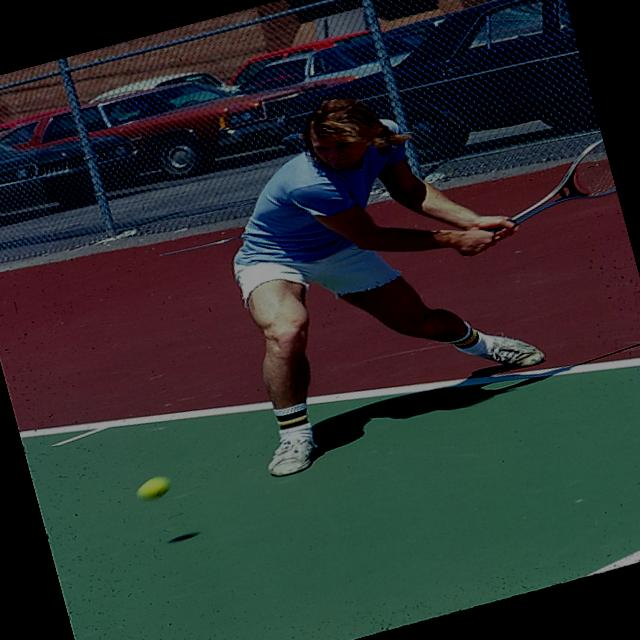Vehicle: (0, 31, 368, 224), (254, 0, 598, 206), (0, 92, 153, 236), (225, 16, 444, 110), (86, 54, 241, 126), (225, 25, 376, 84)
